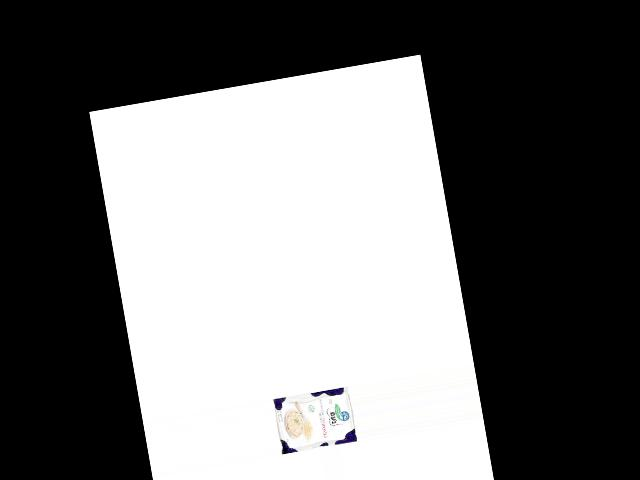cheese: (270, 385, 358, 456)
